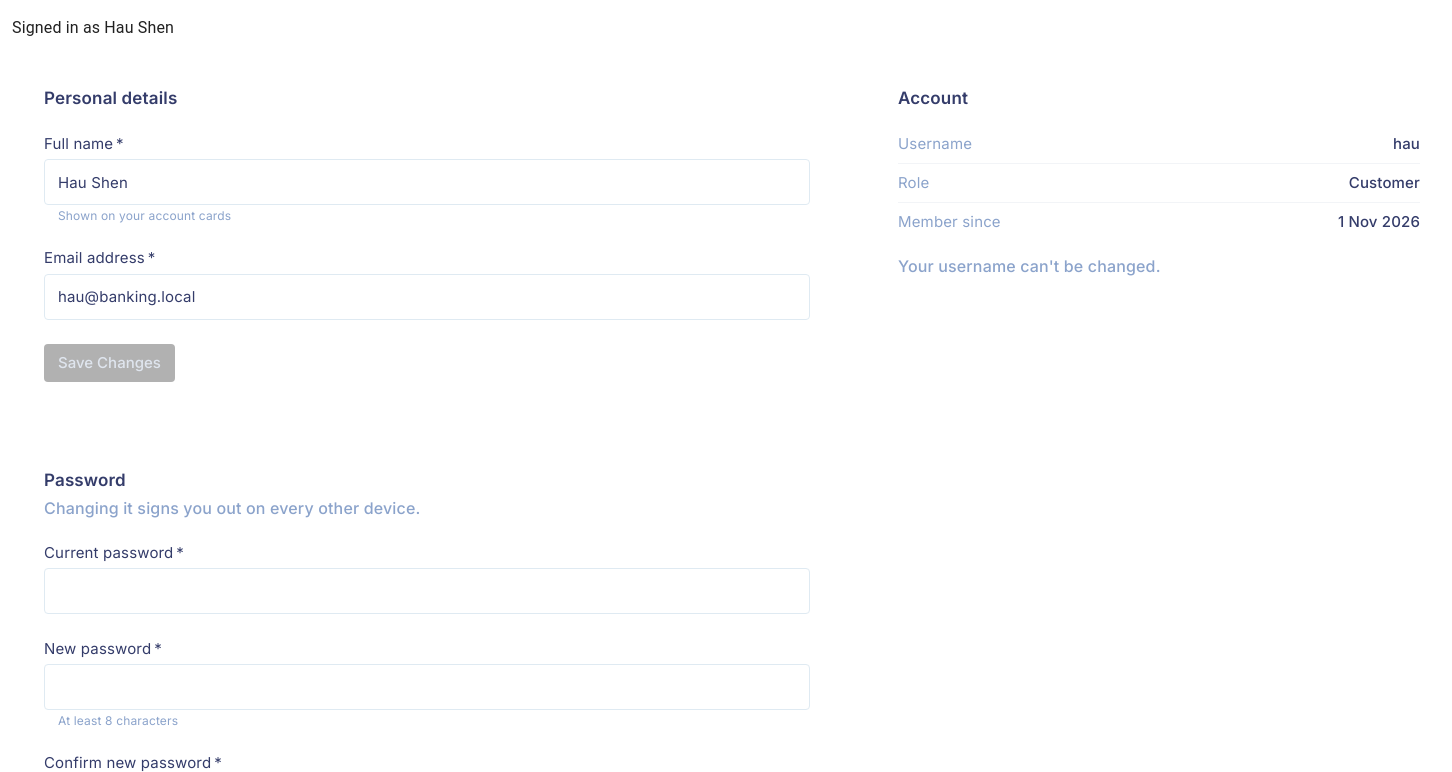
Test case: profile page › shows "already used" on the email field
This screenshot has width=1452, height=772.
Replace the text in the field labelled "Email address *" with "taken@banking.local": coordinates (427, 297) [44,274,810,320]
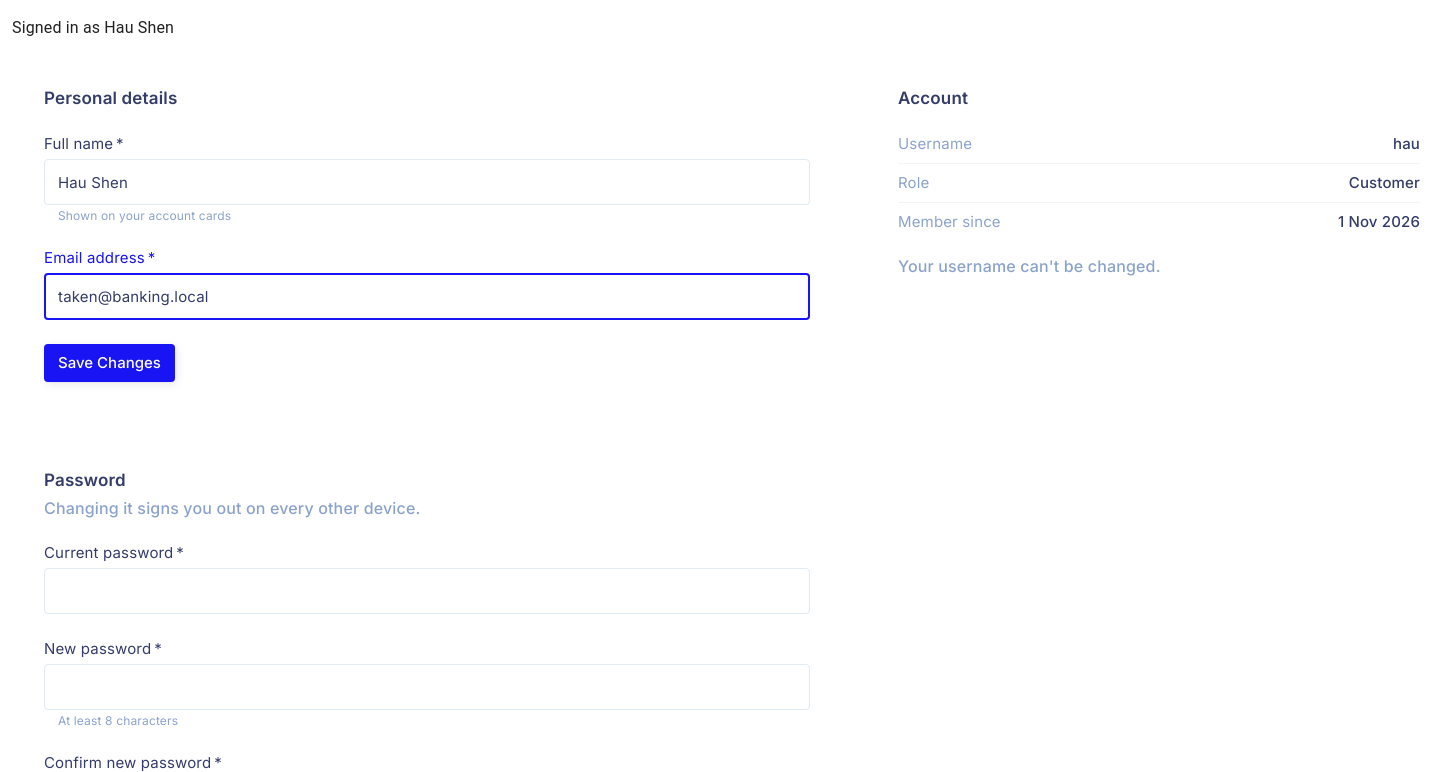
Click the button "Save changes": coordinates (109, 363) [44,344,175,382]
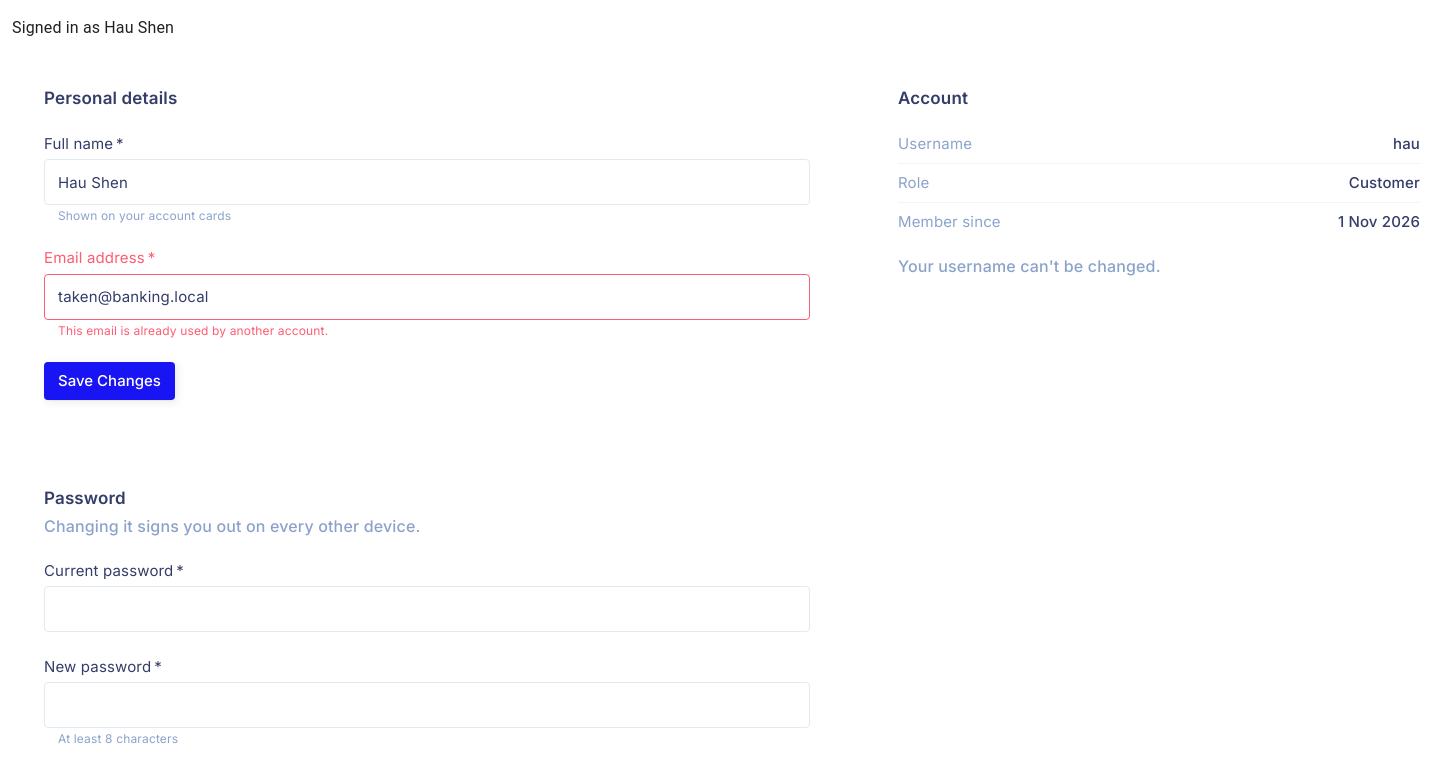
Expected: the text "Signed in as Hau Shen" is shown, [12,18,174,37]
Expected: the text "This email is already used by another account." is shown, [58,323,328,338]
